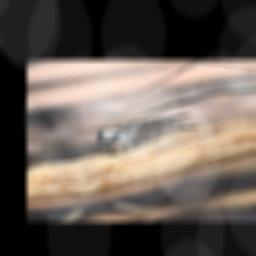Woodpecker: (89, 111, 210, 155)
